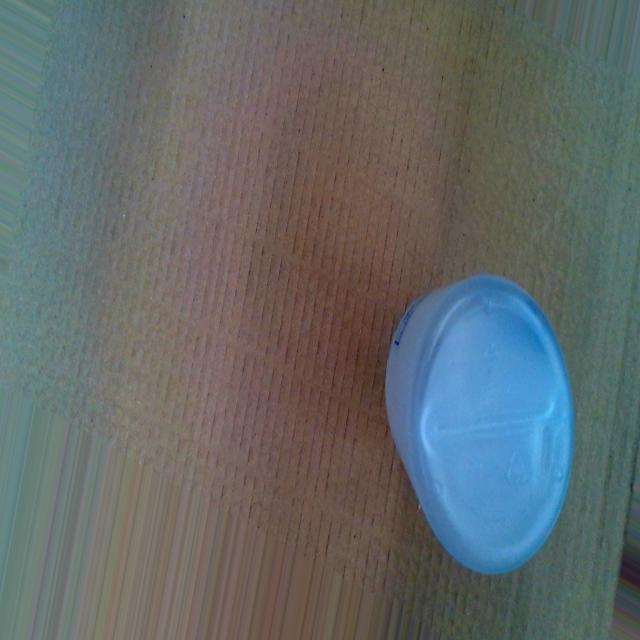bottle: (379, 263, 577, 584)
